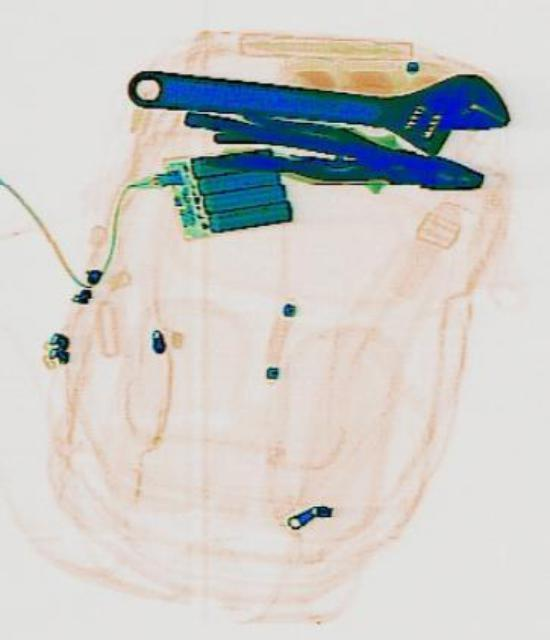Pliers: (204, 104, 485, 204)
Wrench: (121, 45, 509, 162)
